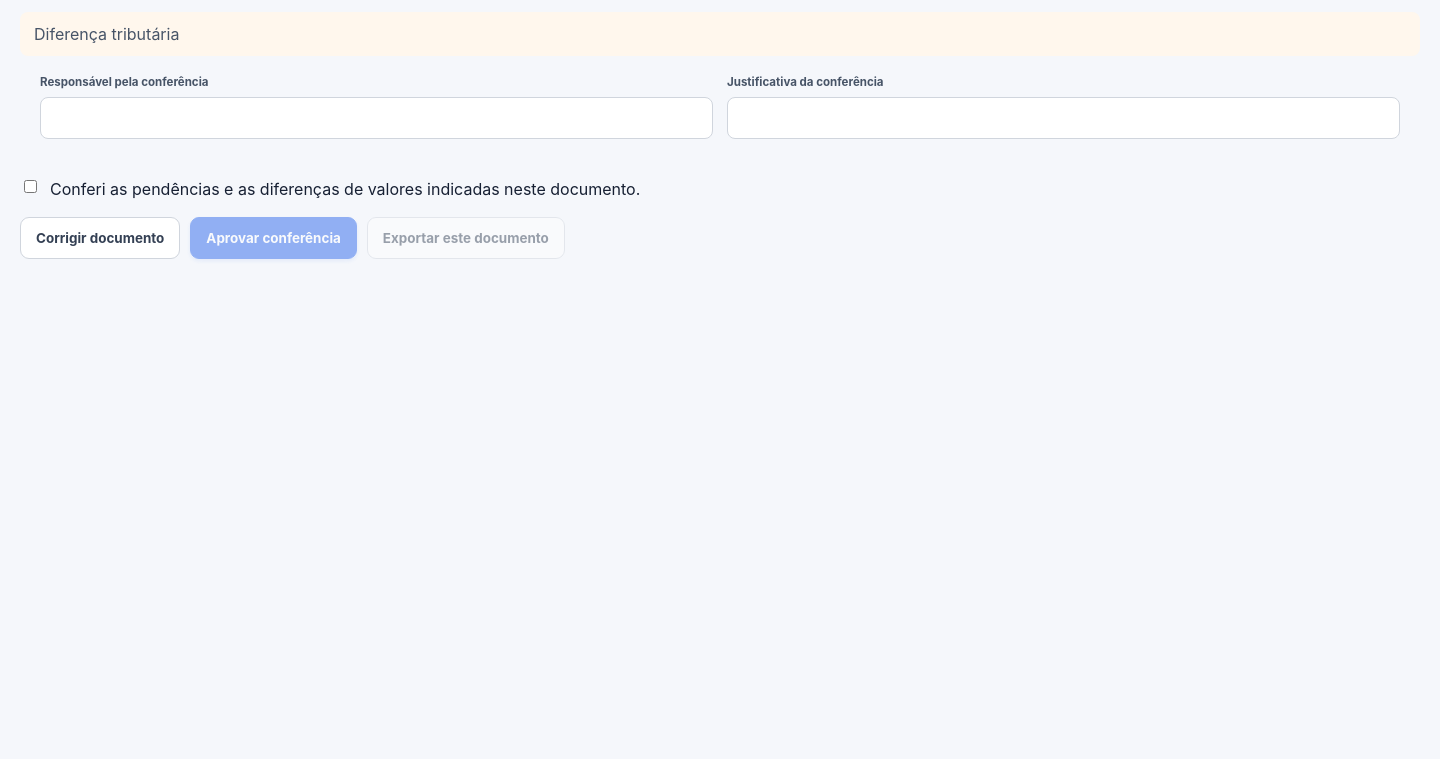
ExtractaReview › corrige preço sem substituir o total declarado e preserva formulário em conflito
Type "Maria" into the field labelled "Responsável pela conferência". click: [376, 118]
box: [40,97,713,139]
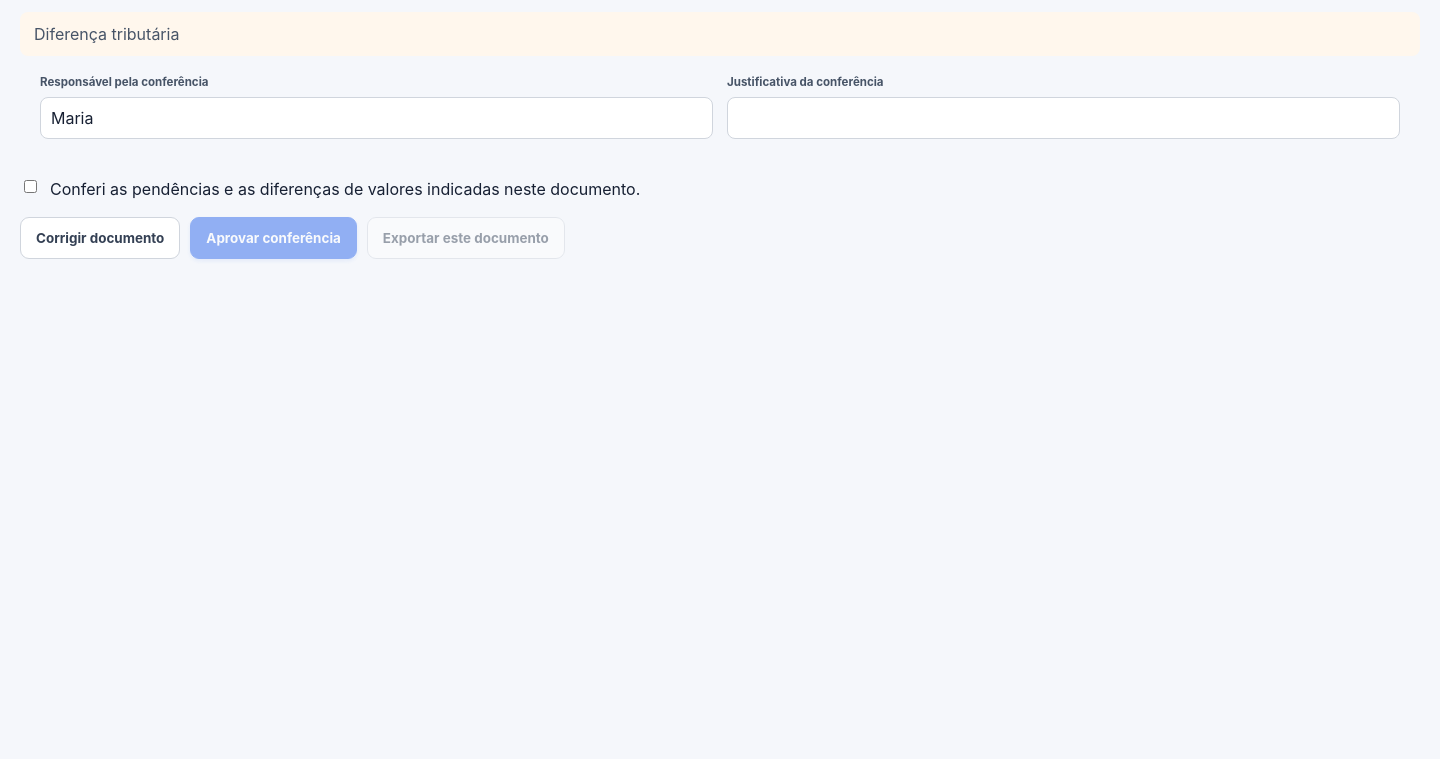
Click the button "Corrigir documento". click: [100, 238]
box: [20,217,180,259]
(page scrolled)
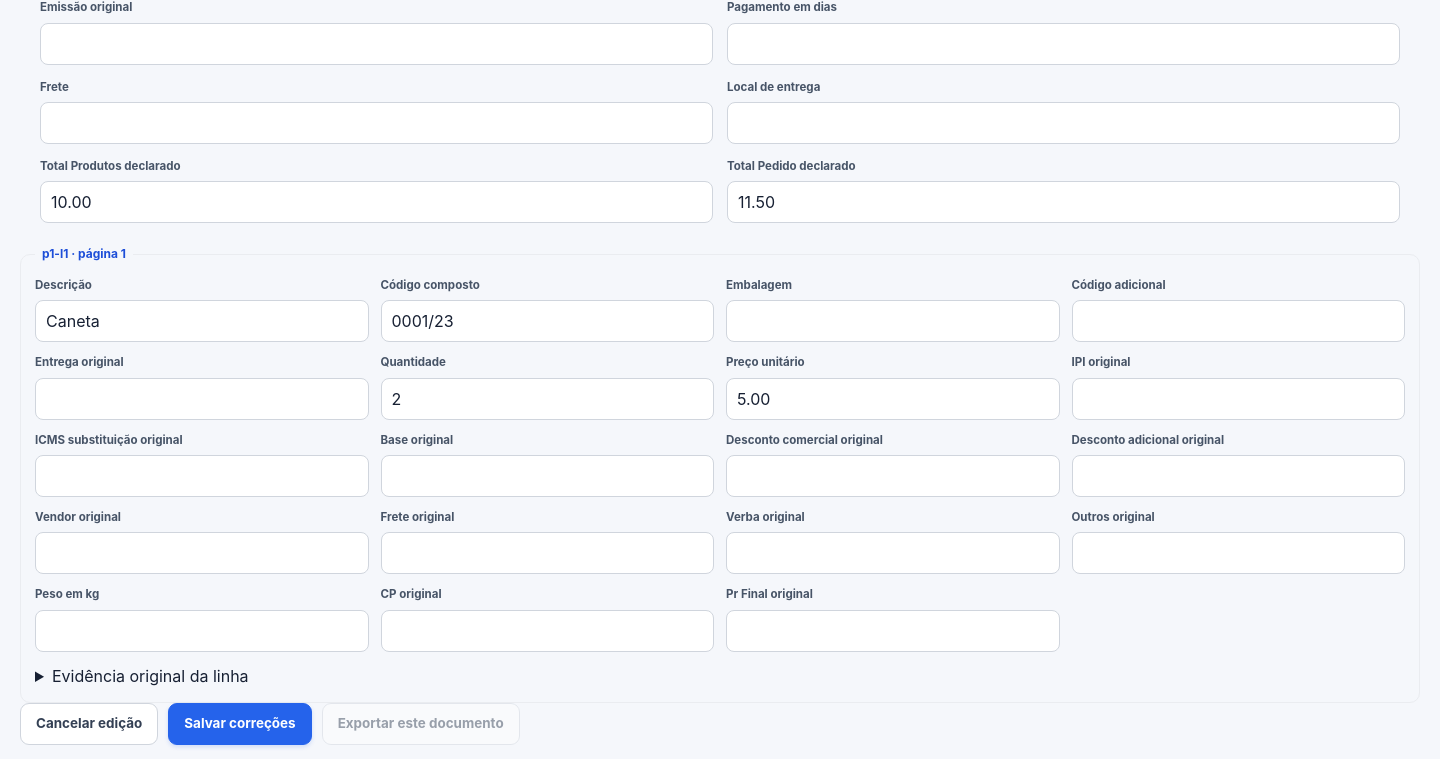
Replace the text in the number field labelled "Preço unitário" with "6.00". click: [893, 399]
box: [726,378,1060,420]
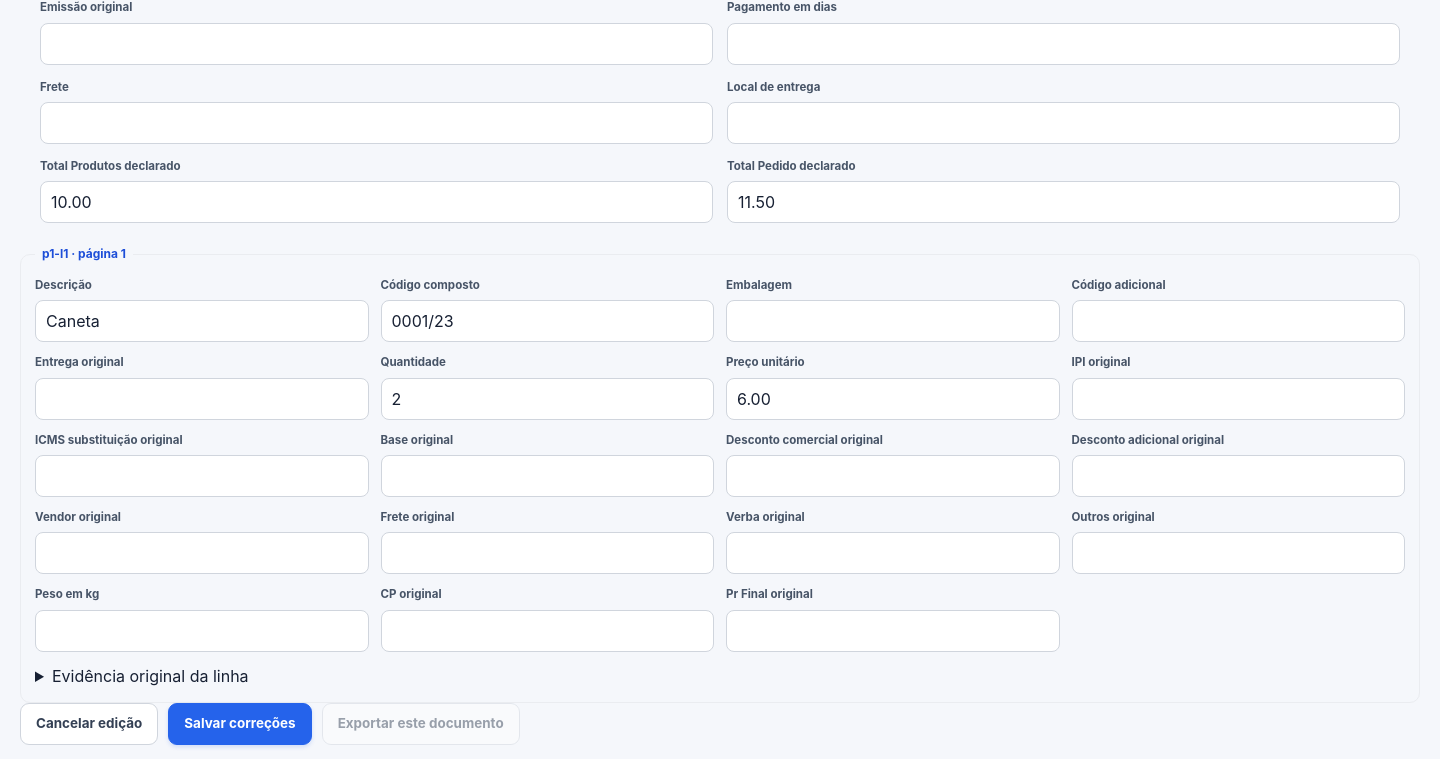
Click the button "Salvar correções". click: [240, 724]
box: [168,702,312,744]
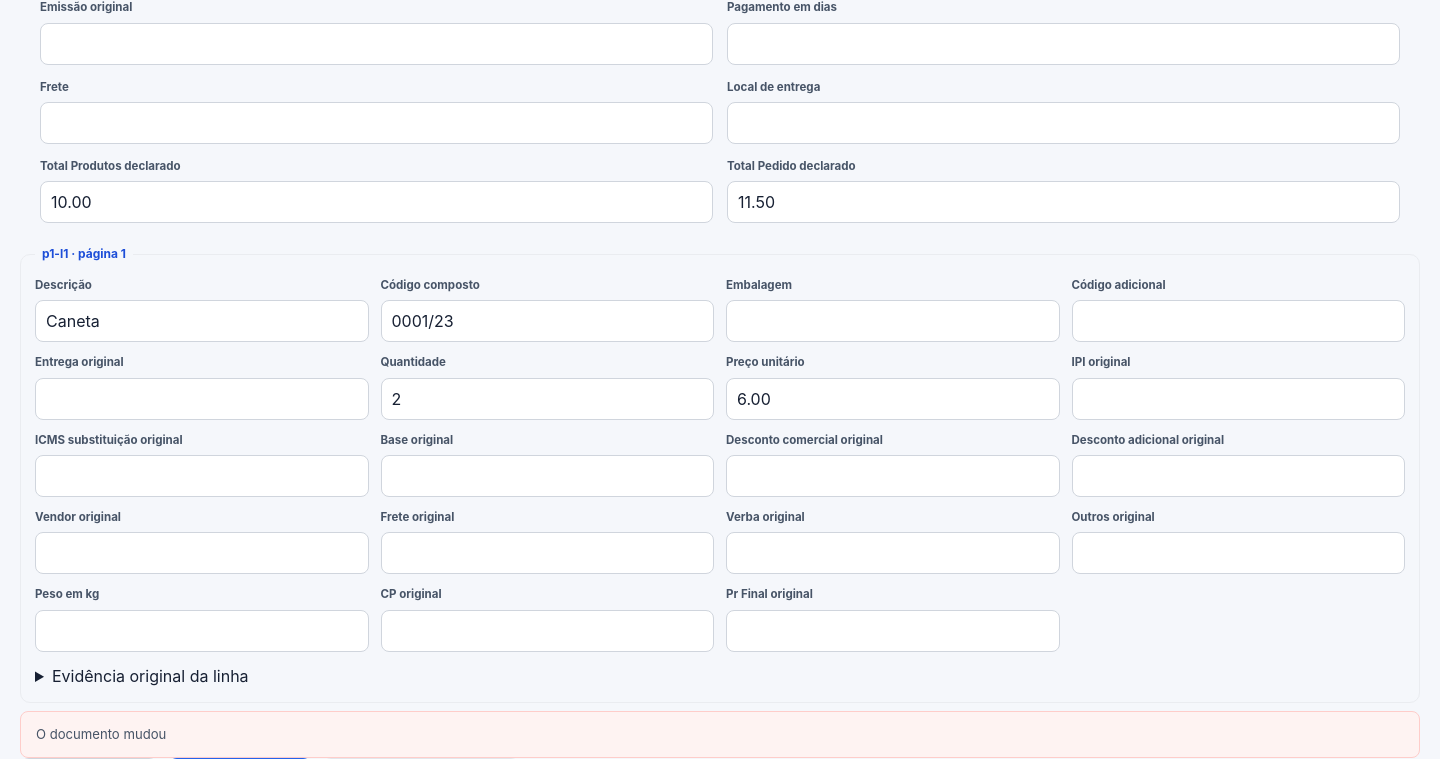
expect the message reads "O documento mudou": met, box [36,726,166,742]
